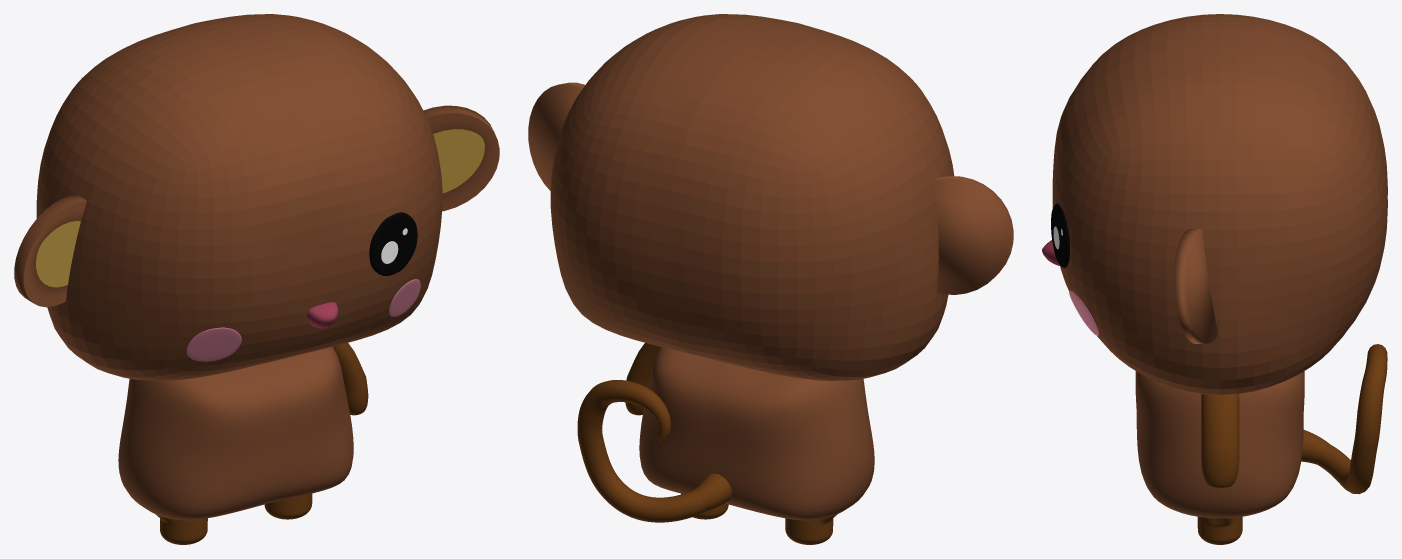
File: 05-19_Monkey.glb
The picture shows the model from 3 angles, left to right: view 1: azimuth 30°, elevation 25°; view 2: azimuth 150°, elevation 25°; view 3: azimuth 270°, elevation 25°; orthographic projection. The views are drawn at different scales.
Visible parts, largest first — view 1: Cube, Cube.001, Cylinder.003, Plane.001, Plane.002, Cylinder, Cylinder.001, Cube.005; view 2: Cube, Cube.001, Cylinder.003, BézierCurve, Cylinder, Cylinder.001; view 3: Cube, Cube.001, BézierCurve, Cylinder.003, Cylinder.001, Cylinder, Plane.002, Plane.001.
Part boxes in pixels (left/top/right/bottom): Cube: left=36, top=14, right=442, bottom=380; Cube.001: left=118, top=346, right=353, bottom=520; Cylinder.003: left=14, top=105, right=499, bottom=307; Plane.001: left=186, top=279, right=420, bottom=361; Plane.002: left=369, top=212, right=417, bottom=275; Cylinder: left=156, top=493, right=312, bottom=544; Cylinder.001: left=333, top=343, right=368, bottom=415; Cube.005: left=306, top=302, right=338, bottom=328; Cube: left=550, top=14, right=954, bottom=380; Cube.001: left=639, top=346, right=874, bottom=520; Cylinder.003: left=528, top=82, right=1013, bottom=294; BézierCurve: left=577, top=380, right=731, bottom=522; Cylinder: left=681, top=493, right=837, bottom=544; Cylinder.001: left=625, top=343, right=659, bottom=415; Cube: left=1052, top=14, right=1387, bottom=395; Cube.001: left=1135, top=371, right=1304, bottom=518; BézierCurve: left=1301, top=344, right=1387, bottom=494; Cylinder.003: left=1174, top=228, right=1218, bottom=343; Cylinder.001: left=1201, top=394, right=1239, bottom=487; Cylinder: left=1197, top=516, right=1242, bottom=544; Plane.002: left=1051, top=203, right=1069, bottom=267; Plane.001: left=1069, top=290, right=1098, bottom=335.
Bounding box in the file's own units: 6.22 × 5.99 × 3.98.
